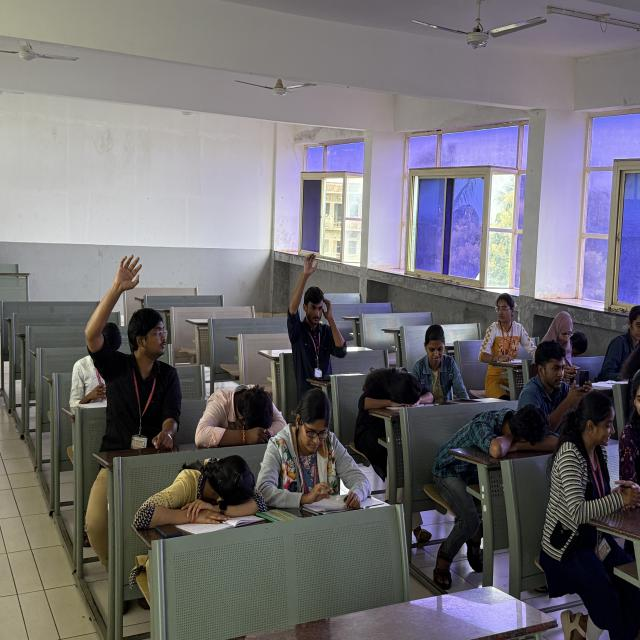Hand Rising: (82, 218, 190, 464), (285, 235, 350, 387)
Reading: (262, 380, 397, 558)
Sleeping: (134, 446, 280, 578), (194, 330, 292, 486), (360, 351, 435, 477)
Using Phone: (525, 333, 601, 468)
